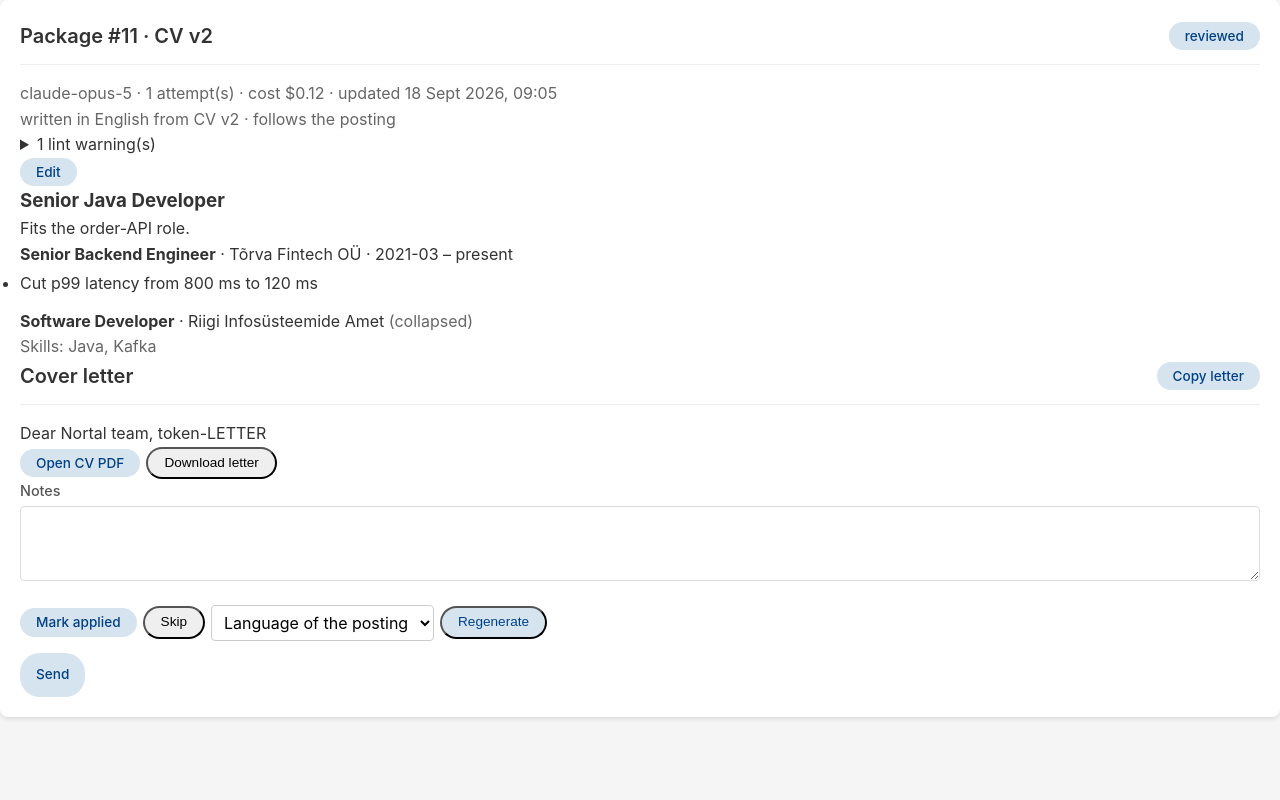
Test case: PackageSend — the confirm dialog shows exactly the mail › a sink with no note from masi still says where the mail goes
Click the button "Send". click: coordinates (53, 674)
box: 20,652 -> 85,696
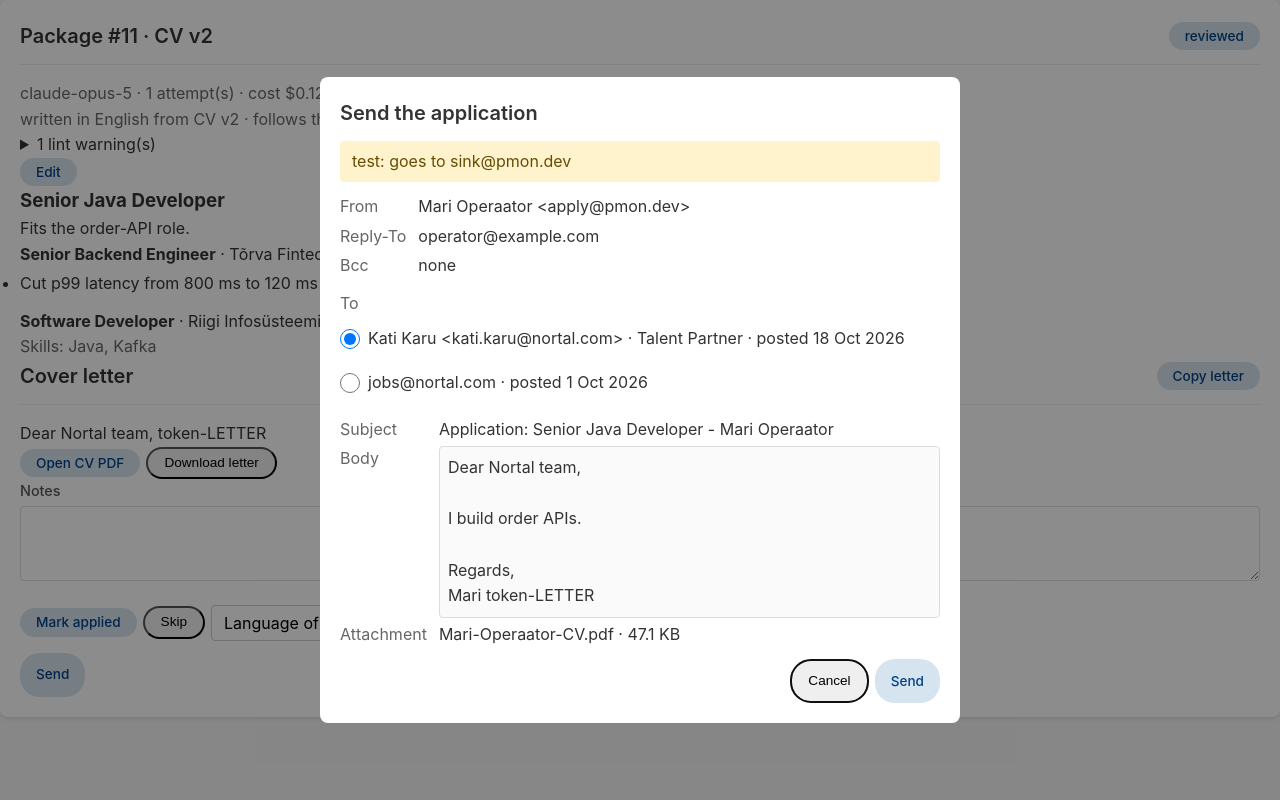
Now the text "test: goes to sink@pmon.dev" is shown, box 340,141 -> 940,182
